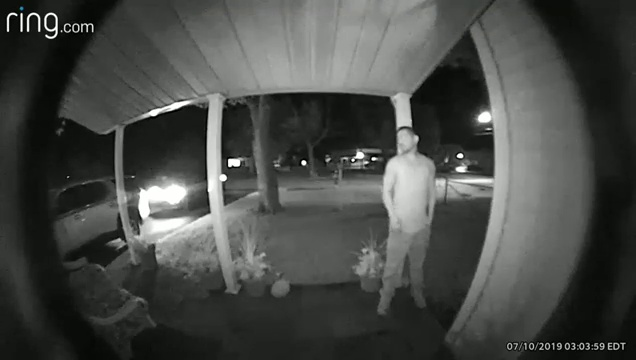face: (397, 129, 411, 150)
